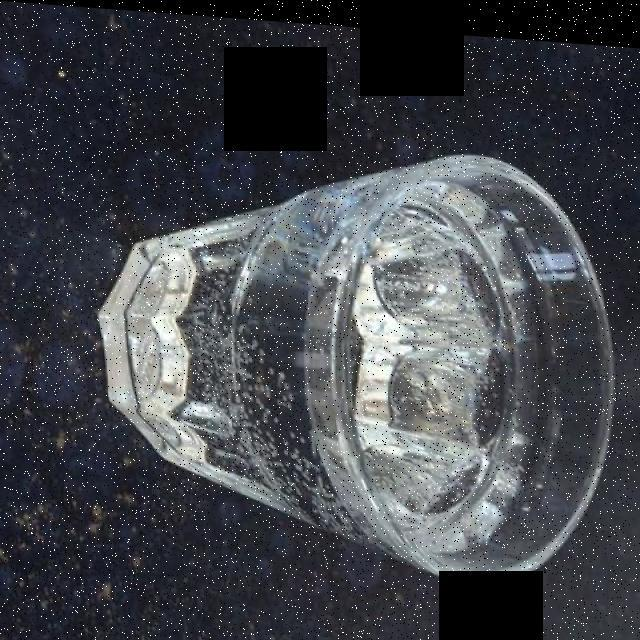water: (351, 196, 529, 536)
